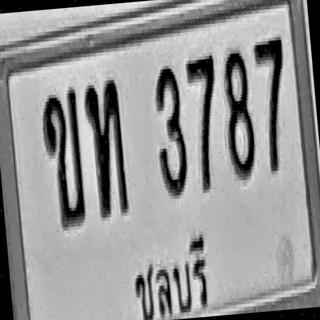A02: (40, 85, 87, 227)
A23: (82, 75, 130, 217)
N03: (150, 62, 190, 196)
N07: (184, 50, 224, 192), (252, 34, 292, 172)
N08: (219, 44, 257, 179)
P13: (126, 225, 214, 320)
